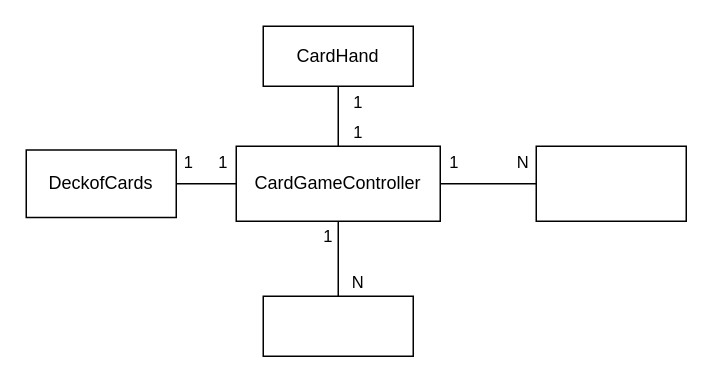
Image size: 713x383. Some labels were removed from this diagram. The shapes that lost their labels are listed below. From the top down, each one's centre as x and y in pixels, then its label:
At point (610, 183): "Card".
At point (337, 325): "CardGraphic".
